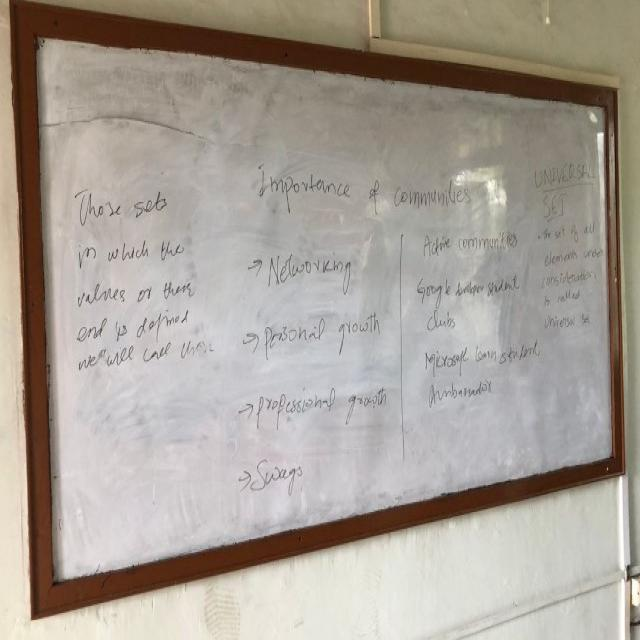White-board: (20, 14, 624, 603)
